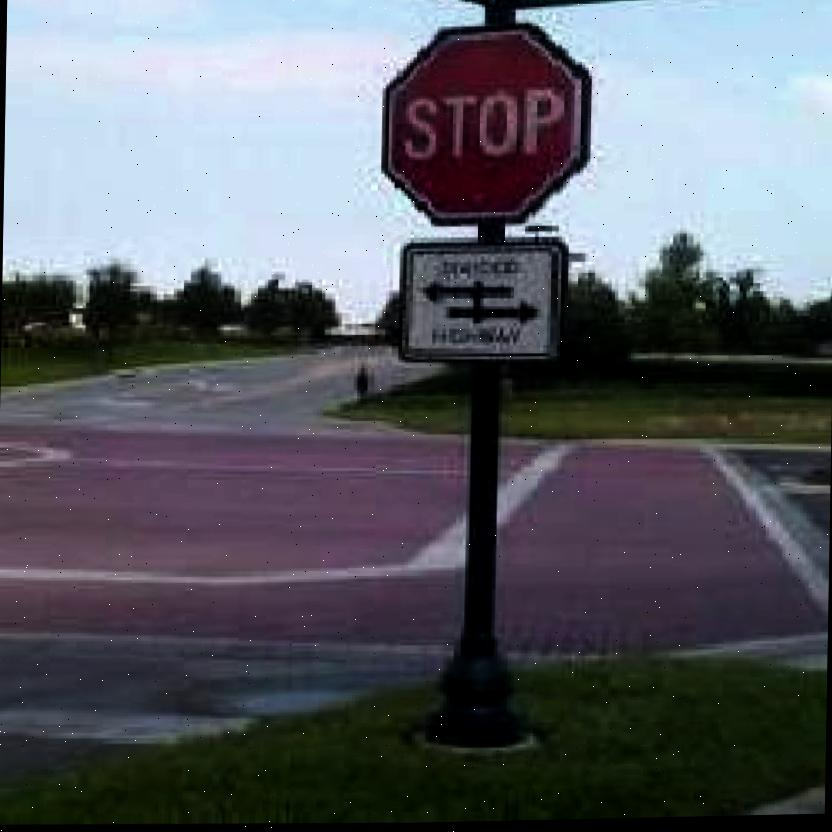Pole: (462, 360, 502, 748)
Sign: (375, 21, 594, 227)
